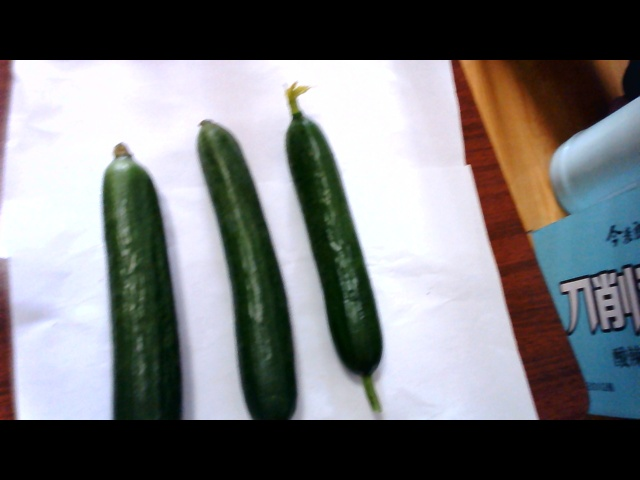cucumber: (192, 103, 298, 416), (283, 111, 394, 406), (88, 138, 184, 421)
